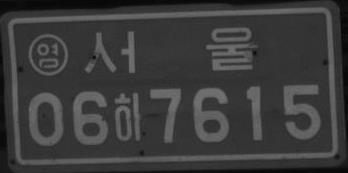0: (27, 89, 65, 148)
1: (239, 85, 273, 140)
5: (281, 82, 321, 141)
6: (192, 85, 229, 143), (71, 90, 109, 146)
7: (149, 86, 182, 144)
서울_D: (83, 25, 257, 75)
영: (28, 33, 69, 77)
하: (112, 91, 143, 142)
